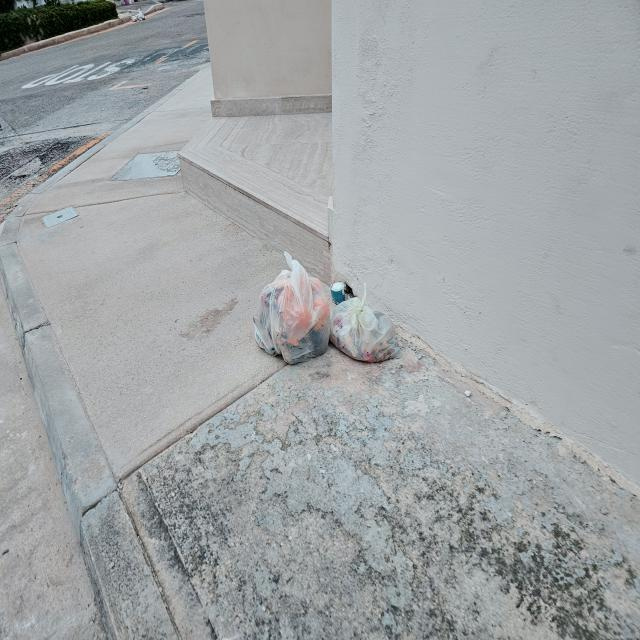white_bag: (252, 250, 332, 368), (328, 281, 409, 364)
